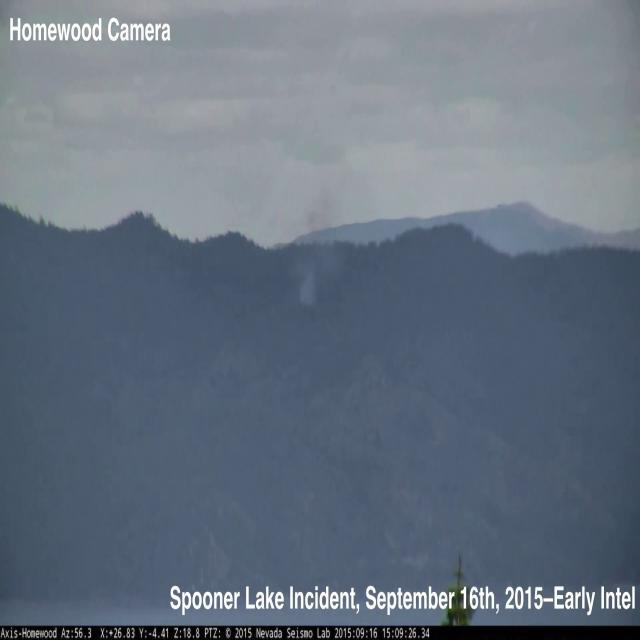smoke: (293, 40, 367, 312)
